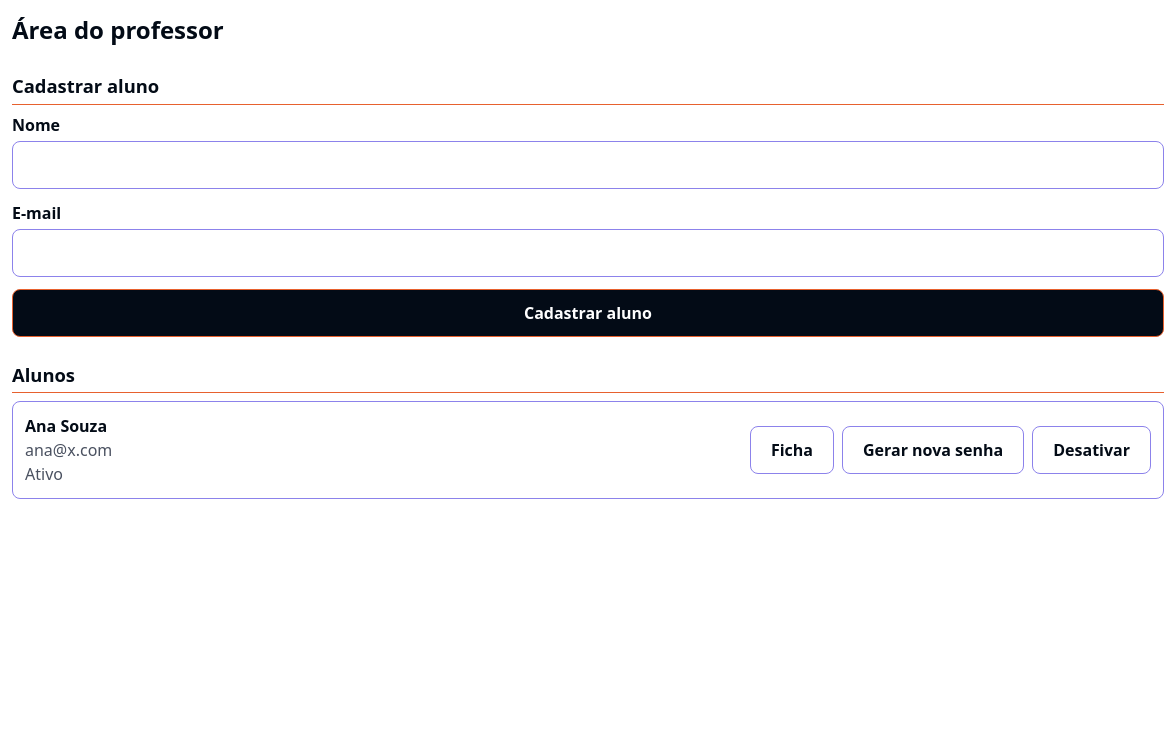
Test: AreaProfessor › mostra o erro amigável quando o e-mail já existe
This screenshot has width=1176, height=732.
Type "Ana" into the field labelled "Nome" at (588, 165), box [12,141,1164,189]
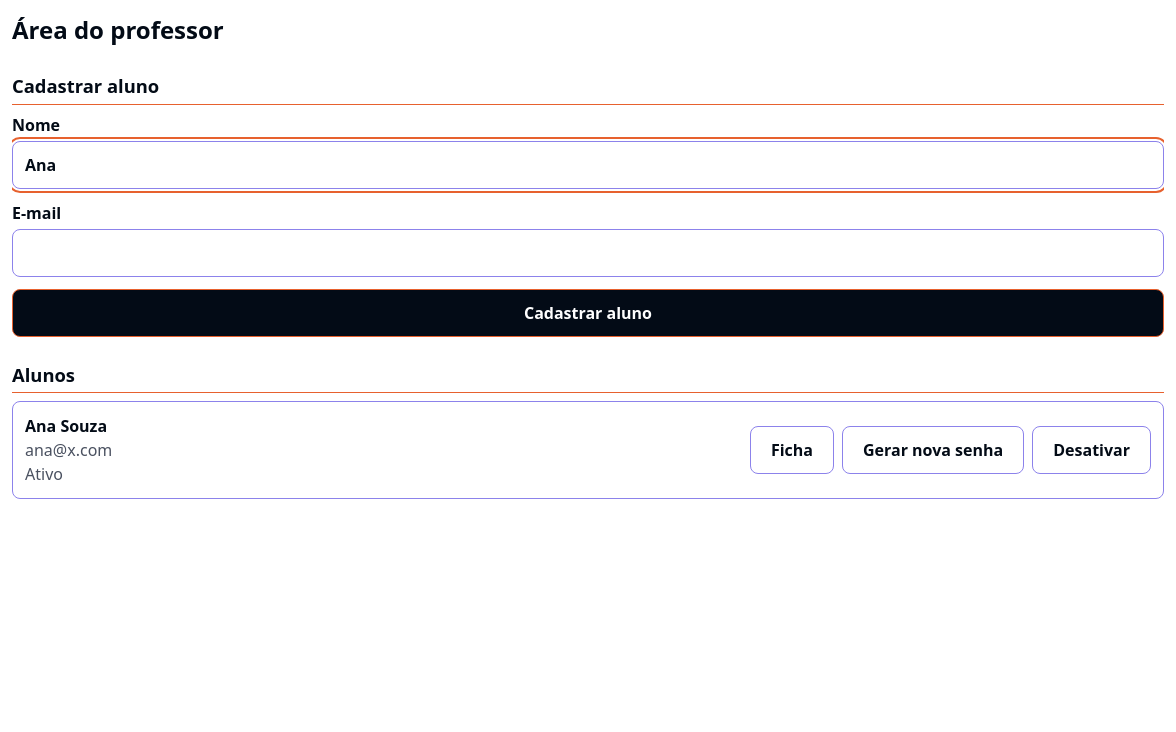
Type "ana@x.com" into the field labelled "E-mail" at (588, 253), box [12,229,1164,277]
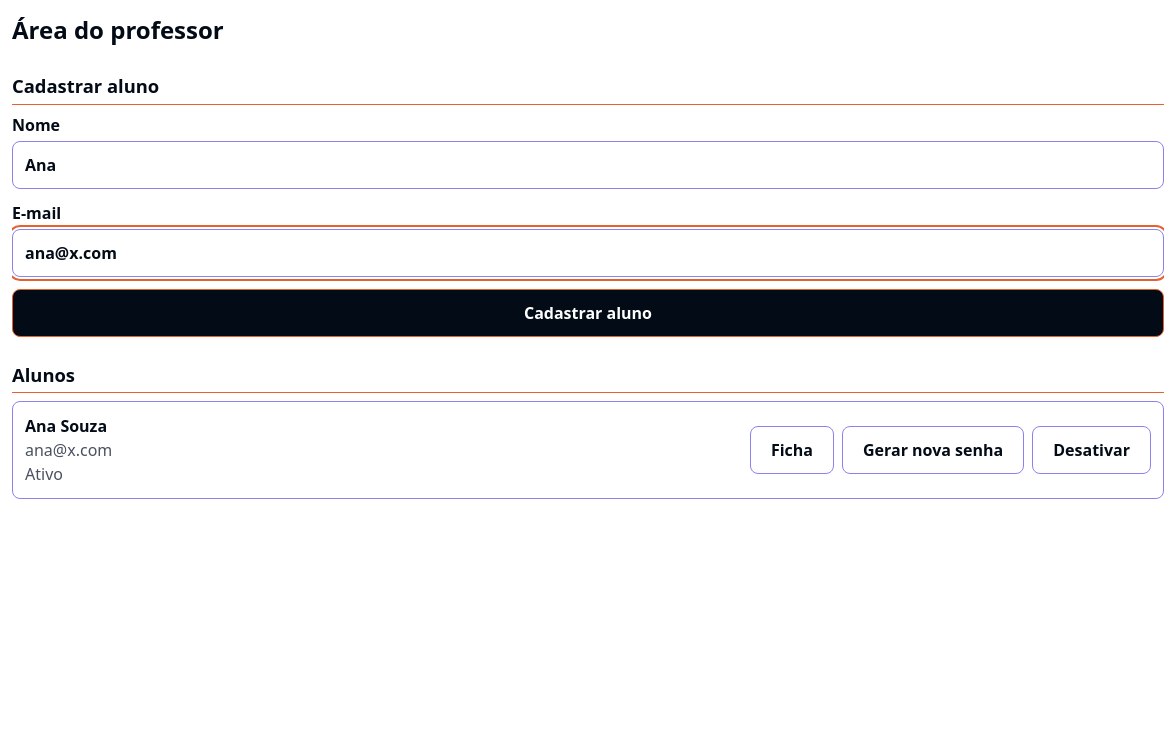
Click the button "Cadastrar aluno" at (588, 313), box [12,289,1164,337]
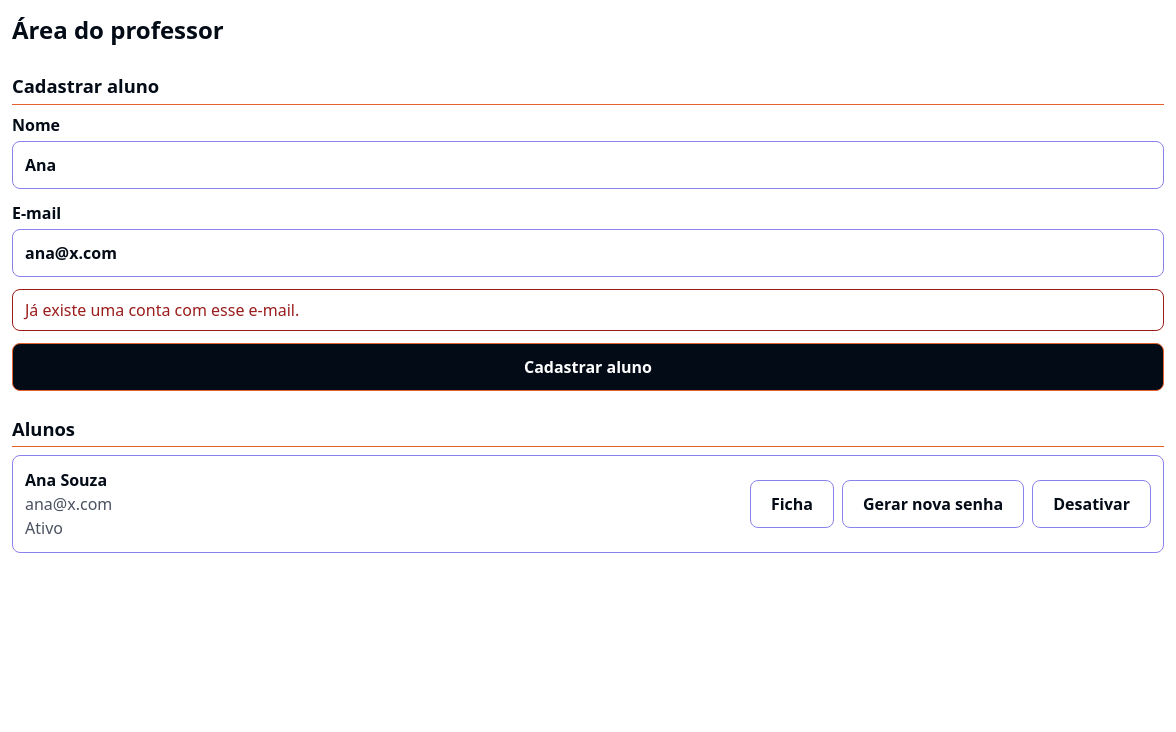
Check: the message reads "Já existe uma conta com esse e-mail.", box [25,299,299,321]
